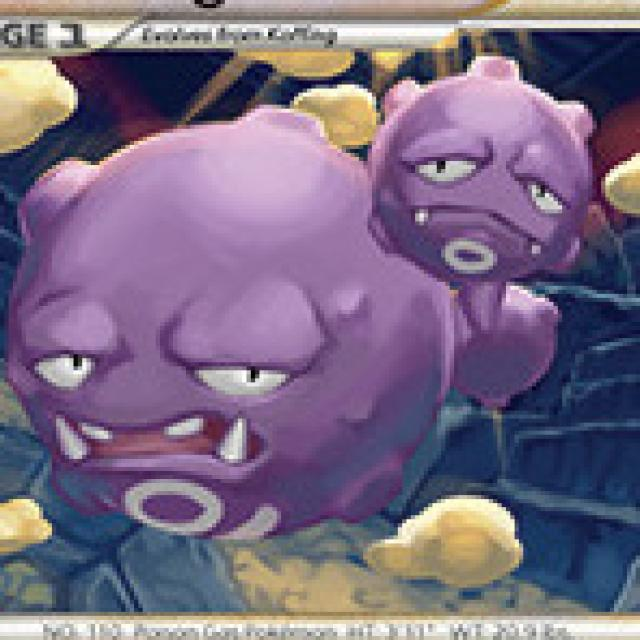Weezing: (6, 63, 634, 573)
